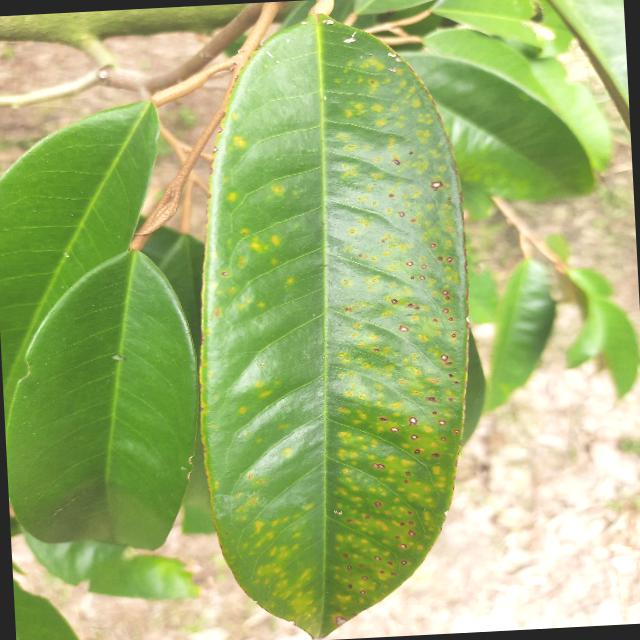Leaf Spot: (165, 5, 496, 639)
